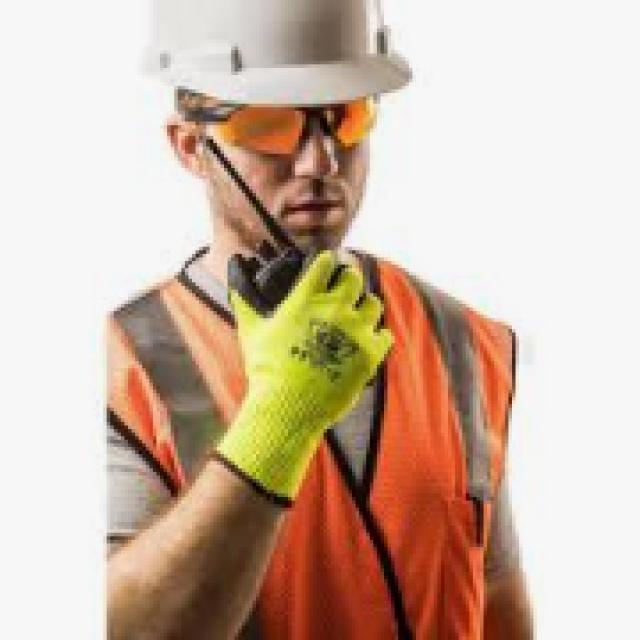glasses: (204, 100, 404, 160)
